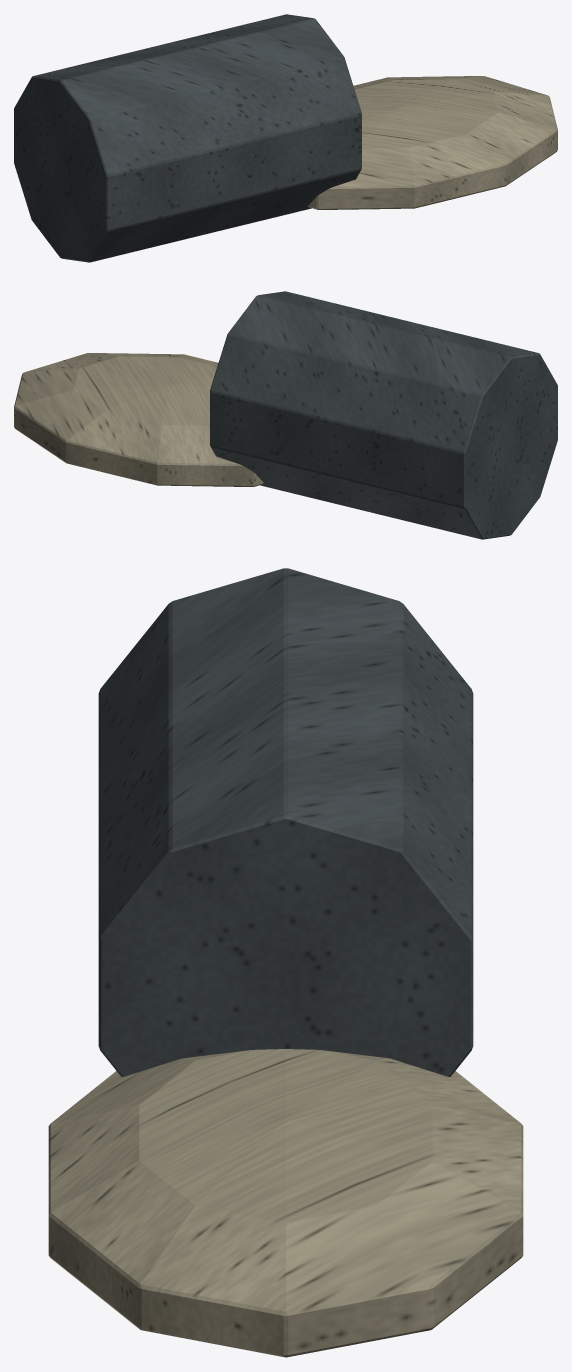
Rendered from PROP-78013D8C2257_lod1.glb.
3 renders of one model, top to bottom at view 1: azimuth 30°, elevation 25°; view 2: azimuth 150°, elevation 25°; view 3: azimuth 270°, elevation 25°, orthographic. The views are drawn at different scales.
Visible parts, largest first — view 1: fallen_can.001, spilled_rubbish.001; view 2: fallen_can.001, spilled_rubbish.001; view 3: fallen_can.001, spilled_rubbish.001.
Part boxes in pixels (bbox=[...]): fallen_can.001: bbox=[14, 14, 361, 262]; spilled_rubbish.001: bbox=[308, 76, 557, 209]; fallen_can.001: bbox=[210, 291, 557, 539]; spilled_rubbish.001: bbox=[14, 353, 263, 486]; fallen_can.001: bbox=[98, 568, 473, 1076]; spilled_rubbish.001: bbox=[48, 1049, 523, 1357].
Bounding box in the file's own units: 1.72 × 0.6088 × 0.7236.
Materials: 2 (2 with a texture image).
